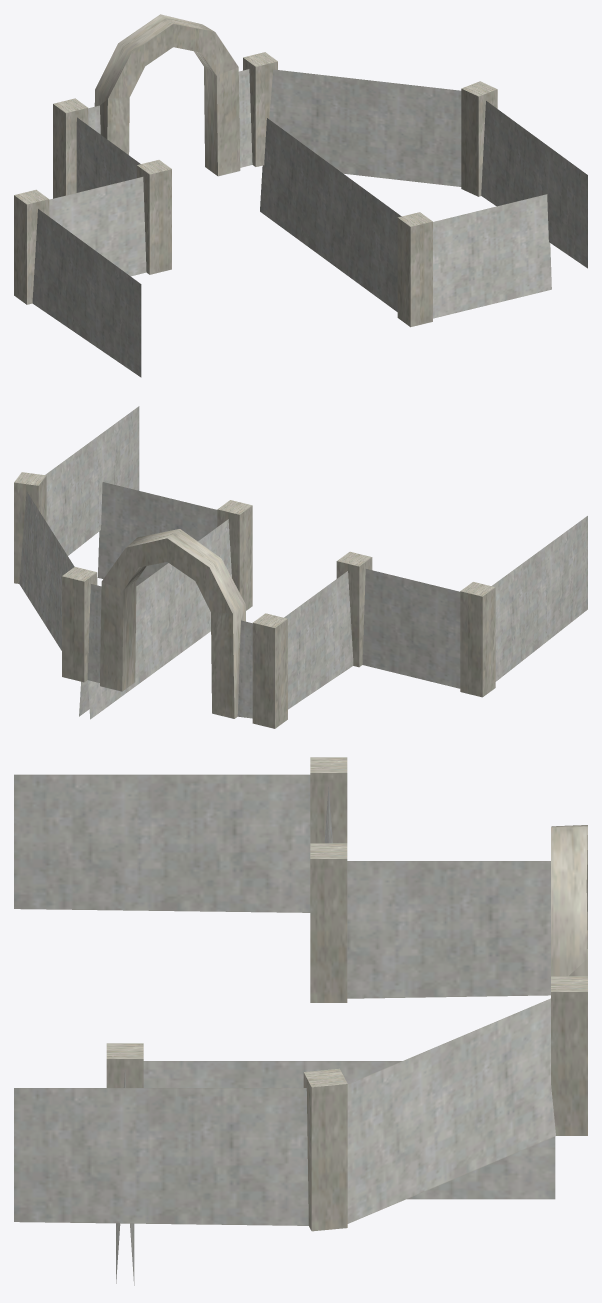
File: poi_corl_corral_half_32x32_s01_l1.fbx
3 renders of one model, top to bottom at view 1: azimuth 30°, elevation 25°; view 2: azimuth 150°, elevation 25°; view 3: azimuth 270°, elevation 25°, orthographic. The views are drawn at different scales.
Parts seen in each view (by area): view 1: mesh_node; view 2: mesh_node; view 3: mesh_node.
Boxes of the visible parts, x1=… form: mesh_node: x1=14, y1=14, x2=587, y2=377; mesh_node: x1=14, y1=406, x2=587, y2=728; mesh_node: x1=14, y1=757, x2=587, y2=1285.
Size of the model in its own units: 21.1 by 9 by 15.5.
